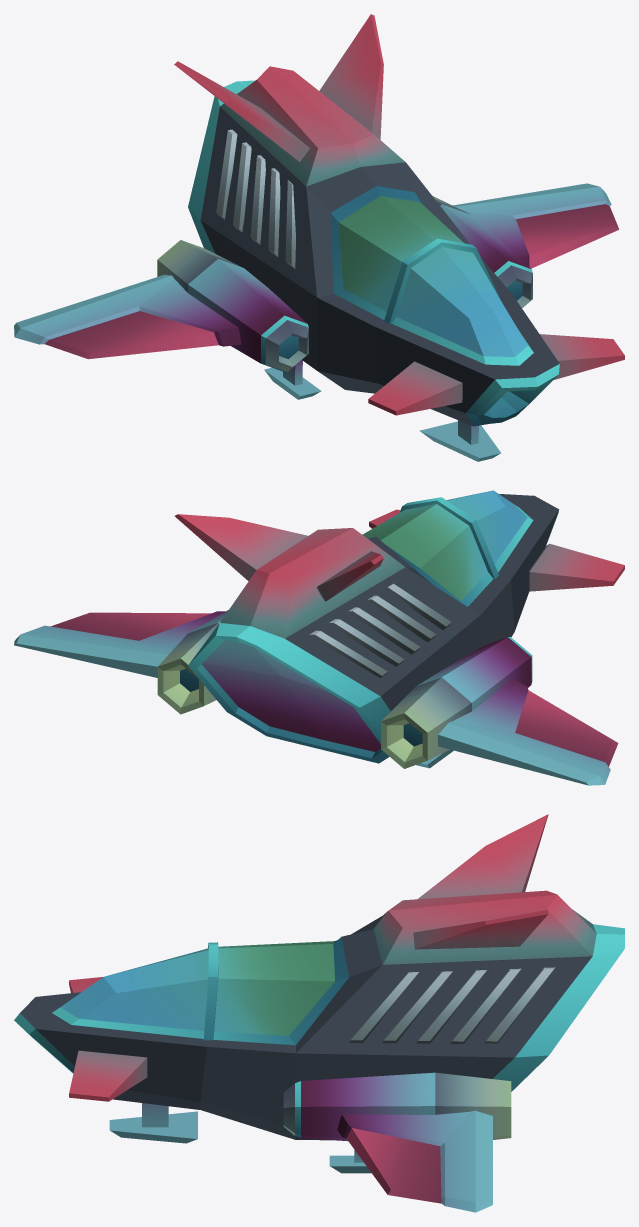
The model's file is Spaceship_B_skin3.FBX.
3 views of the same model, one above another, from view 1: azimuth 30°, elevation 25°; view 2: azimuth 150°, elevation 25°; view 3: azimuth 270°, elevation 25° (orthographic).
Parts seen in each view (by area): view 1: spaceship_b_skin3, wing_b_skin3 (×2), reactor_b_skin3 (×2), flaps_b_skin3 (×3), flaps018, Landing_gear005, Landing_gear007; view 2: spaceship_b_skin3, wing_b_skin3 (×2), reactor_b_skin3 (×2), flaps_b_skin3 (×2), flaps018; view 3: spaceship_b_skin3, wing_b_skin3, reactor_b_skin3, flaps_b_skin3 (×2), flaps018, Landing_gear005, Landing_gear006.
Part boxes in pixels (<box>): spaceship_b_skin3: <box>188,66,559,426</box>; wing_b_skin3 (×2): <box>14,183,619,359</box>; reactor_b_skin3 (×2): <box>157,196,532,371</box>; flaps_b_skin3 (×3): <box>174,61,624,415</box>; flaps018: <box>319,14,383,139</box>; Landing_gear005: <box>419,420,500,461</box>; Landing_gear007: <box>264,360,321,399</box>; spaceship_b_skin3: <box>188,490,558,763</box>; wing_b_skin3 (×2): <box>14,611,618,785</box>; reactor_b_skin3 (×2): <box>157,610,532,768</box>; flaps_b_skin3 (×2): <box>317,543,624,601</box>; flaps018: <box>174,514,307,580</box>; spaceship_b_skin3: <box>14,890,624,1140</box>; wing_b_skin3: <box>337,1110,492,1212</box>; reactor_b_skin3: <box>283,1072,511,1141</box>; flaps_b_skin3 (×2): <box>69,814,548,1101</box>; flaps018: <box>413,910,548,949</box>; Landing_gear005: <box>109,1103,197,1143</box>; Landing_gear006: <box>329,1150,371,1173</box>.
Size of the model in its own units: 13.67 by 5.93 by 12.07.
